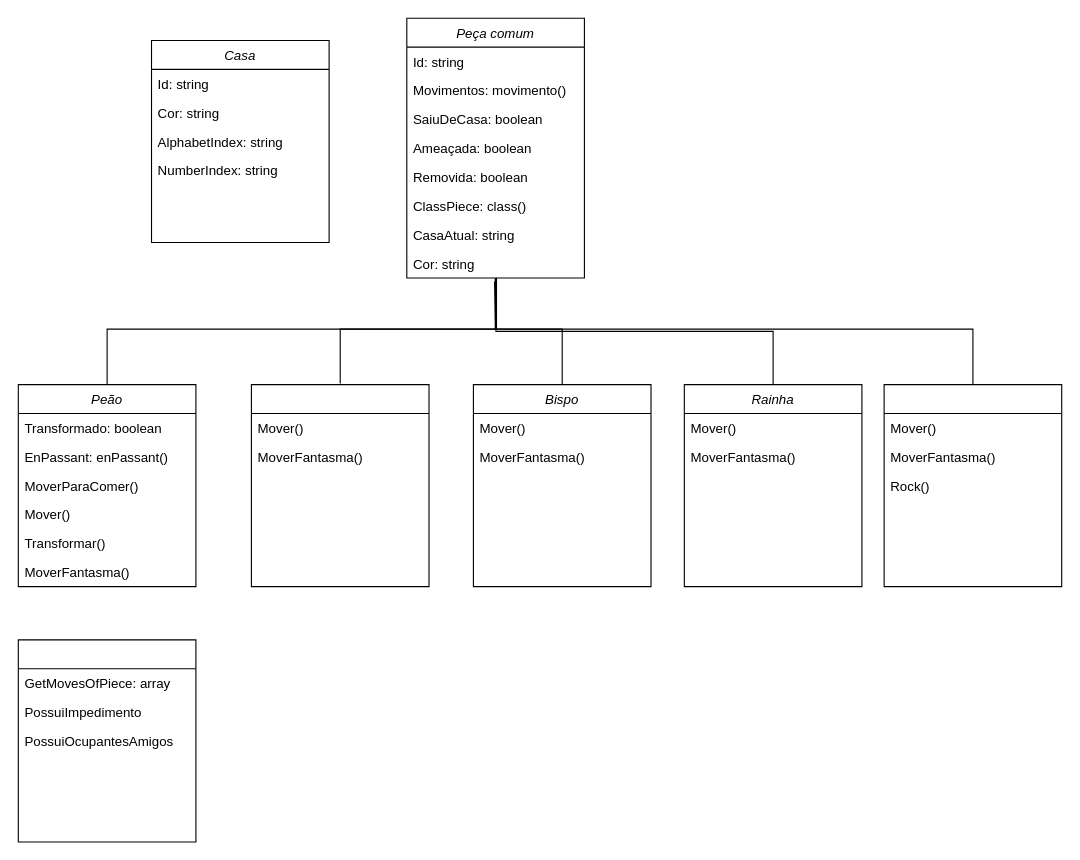
Image size: 1080x860. Some labels were removed from this diagram. Each missing label, with the box of its shape:
Mover(pieceId): (17, 639, 196, 842)
Rei: (883, 384, 1062, 587)
Torre: (250, 384, 429, 587)
